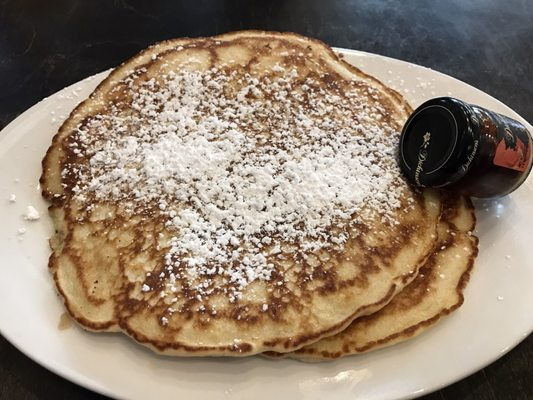salad: (398, 96, 533, 216)
